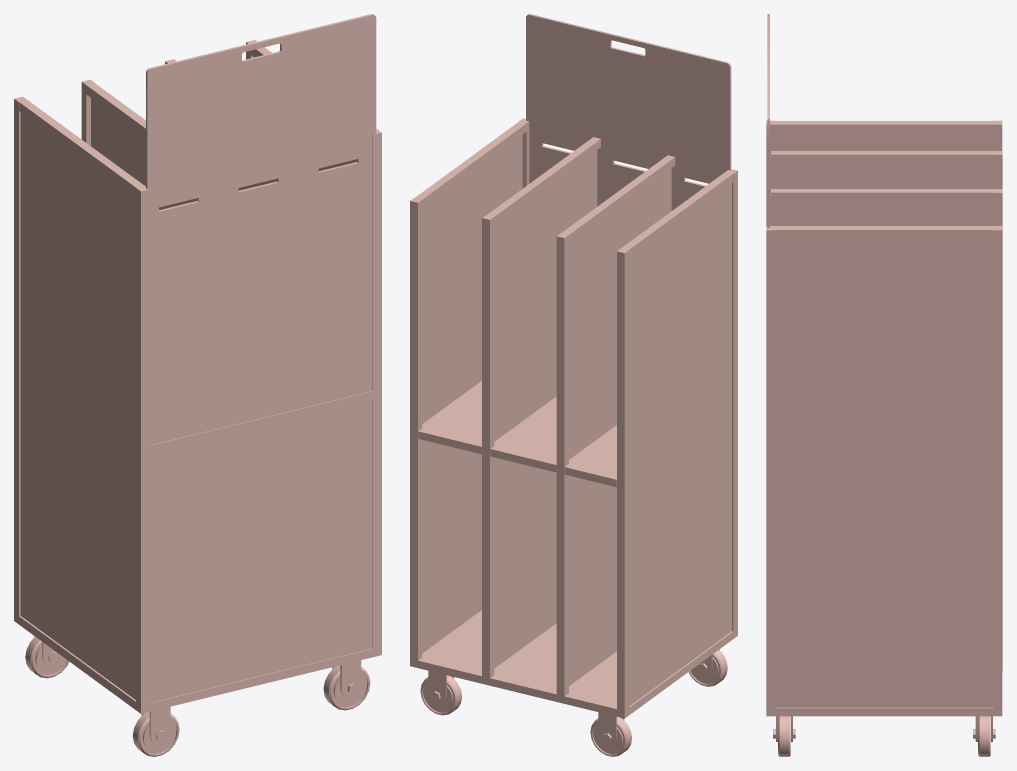
The model's file is LeakageTrolly.fbx.
3 views of the same model, side by side, from view 1: azimuth 30°, elevation 25°; view 2: azimuth 150°, elevation 25°; view 3: azimuth 270°, elevation 25° (orthographic). The views are drawn at different scales.
Parts seen in each view (by area): view 1: LeakageTrolly; view 2: LeakageTrolly; view 3: LeakageTrolly.
Part boxes in pixels (left/top/right/bottom): LeakageTrolly: left=14, top=14, right=381, bottom=756; LeakageTrolly: left=410, top=14, right=737, bottom=756; LeakageTrolly: left=766, top=14, right=1002, bottom=756.
Bounding box in the file's own units: 96.27 × 265 × 87.89.
